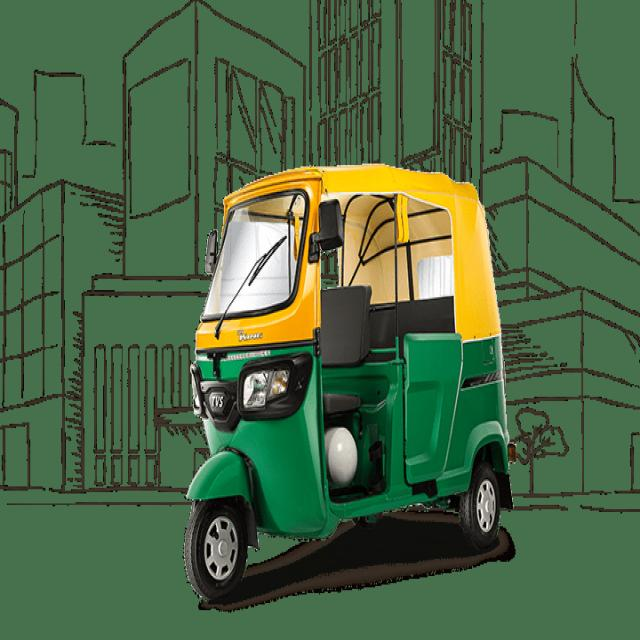autorickshaw: (185, 164, 515, 599)
